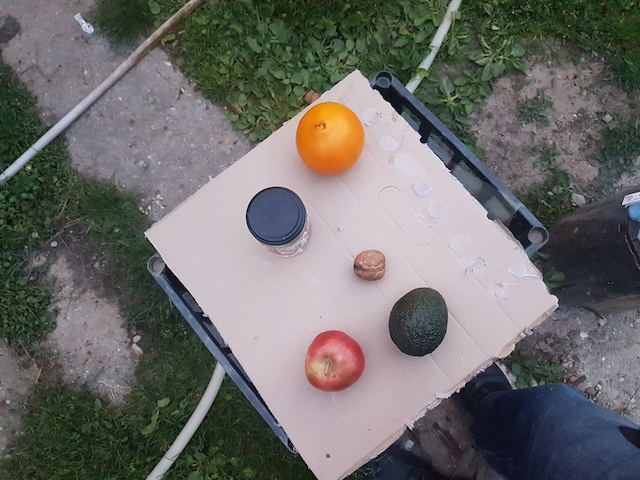apple: (303, 328, 367, 392)
avocado: (388, 286, 448, 356)
nut: (351, 248, 386, 281)
orange: (297, 101, 366, 176)
recipient: (244, 186, 304, 245)
